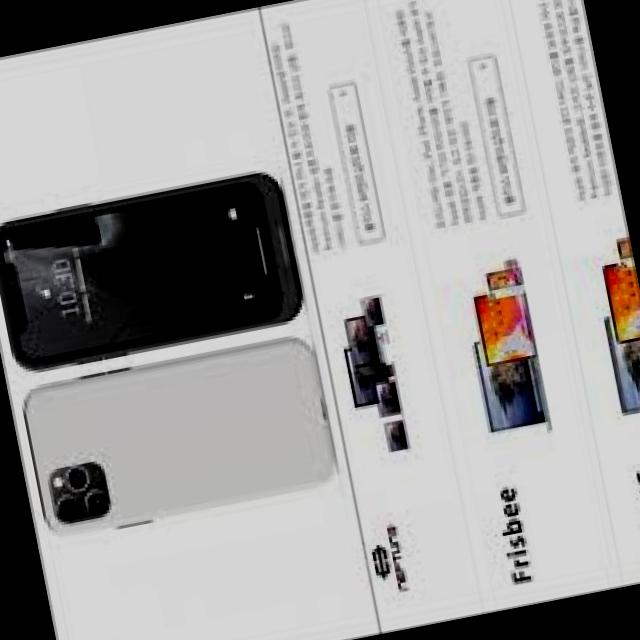lens_back: (82, 480, 119, 520), (53, 493, 83, 524), (64, 460, 92, 492)
phone: (18, 323, 348, 549), (0, 157, 308, 377)
